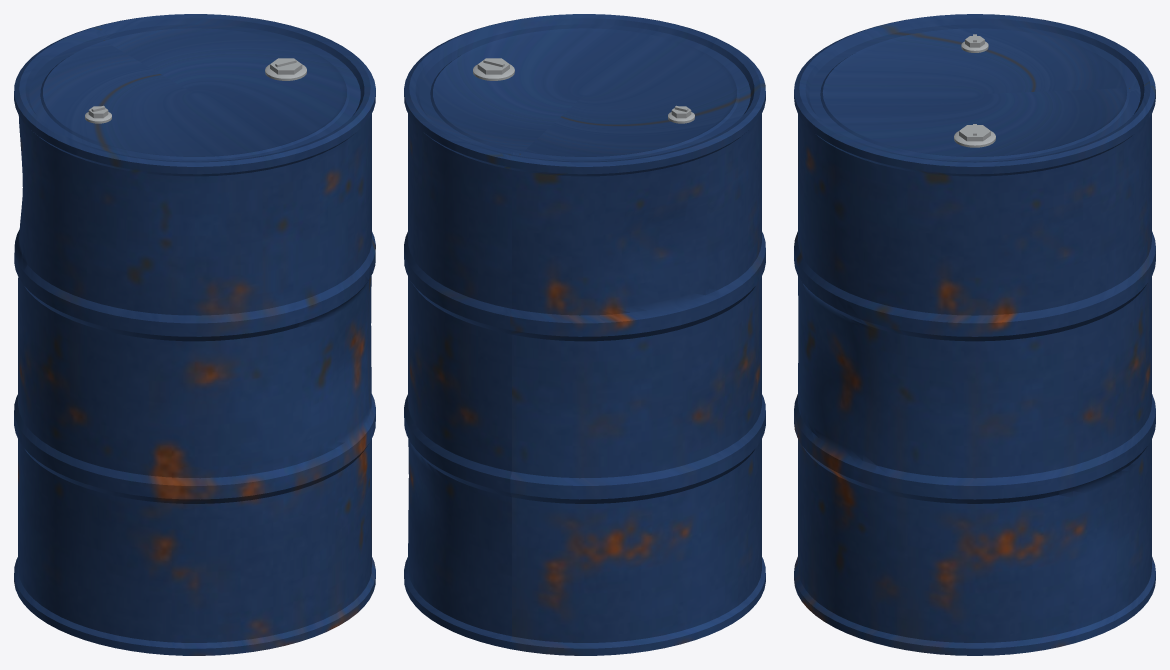
The model's file is parking-oil-drum.glb.
The picture shows the model from 3 angles, left to right: view 1: azimuth 30°, elevation 25°; view 2: azimuth 150°, elevation 25°; view 3: azimuth 270°, elevation 25°; orthographic projection.
Parts seen in each view (by area): view 1: Oil_Drum; view 2: Oil_Drum; view 3: Oil_Drum.
Part boxes in pixels (<box>): Oil_Drum: <box>14,14,375,655</box>; Oil_Drum: <box>404,14,765,655</box>; Oil_Drum: <box>794,14,1155,655</box>.
Bounding box in the file's own units: 0.585 × 0.887 × 0.585.
Materials: 2 (1 with a texture image).
